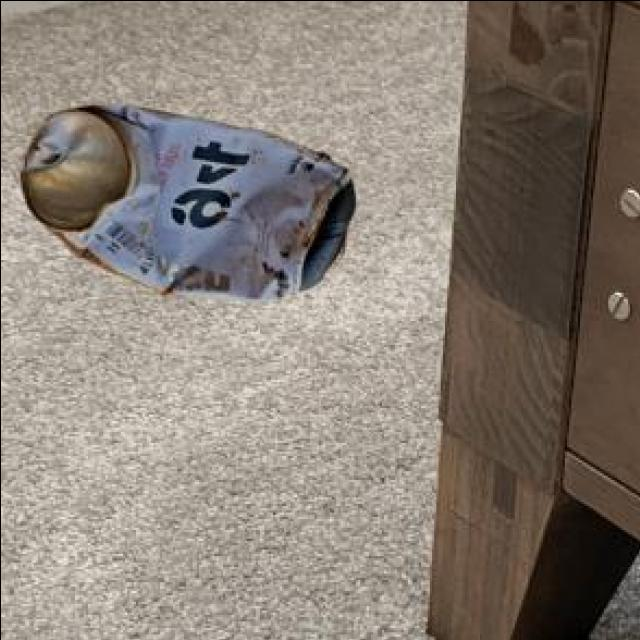logam: (25, 99, 358, 297)
